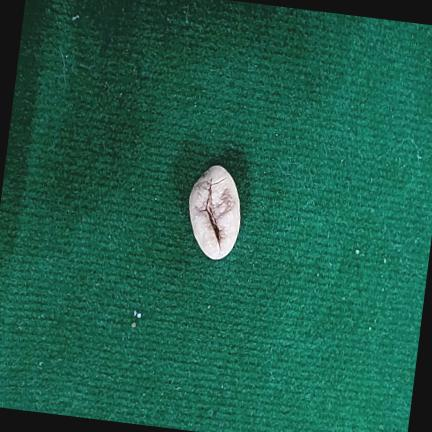immature: (189, 165, 240, 259)
